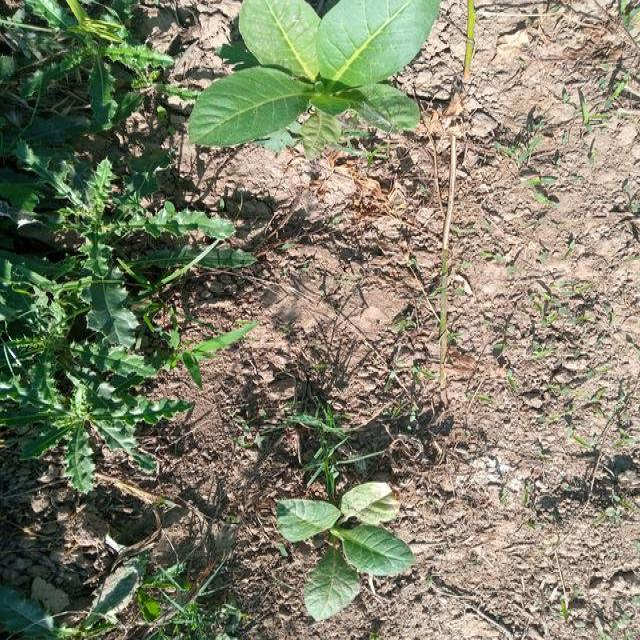crop: (188, 0, 430, 131), (279, 486, 401, 610)
